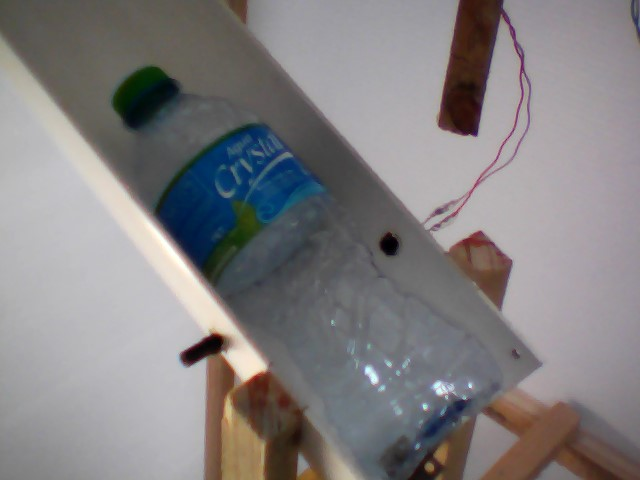plastico: (106, 62, 512, 480)
